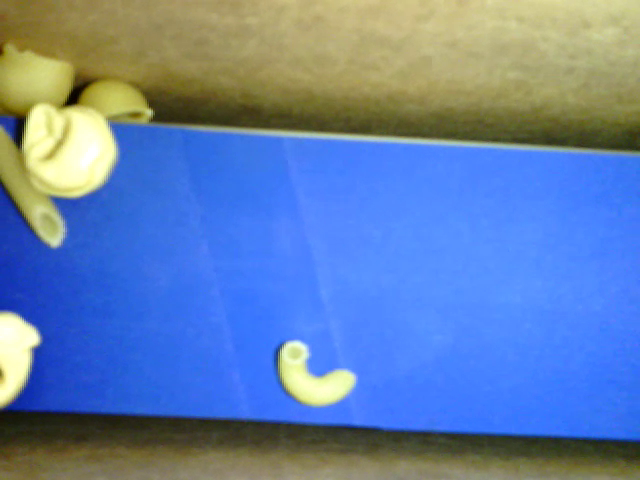elbow: (275, 340, 356, 407)
penne: (1, 125, 66, 246)
shell: (1, 43, 76, 112), (79, 80, 153, 121)
tortellini: (21, 104, 120, 199), (1, 311, 43, 404)
